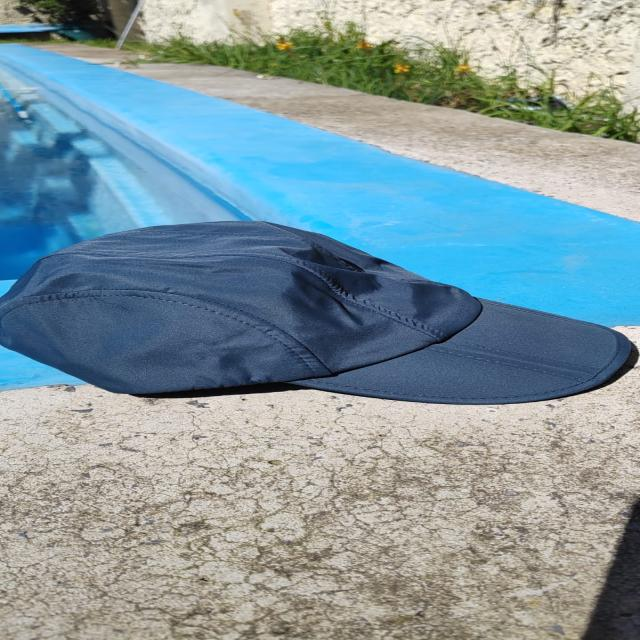Gorra: (0, 220, 640, 410)
